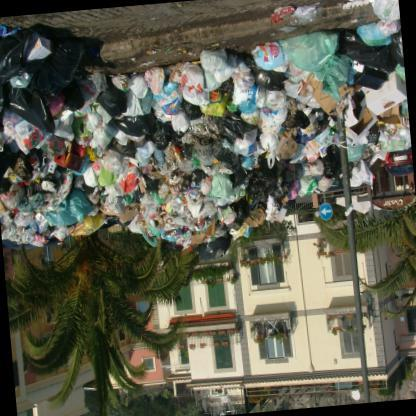Garbage: (0, 1, 415, 277), (0, 76, 203, 210), (0, 168, 55, 249), (354, 0, 402, 49), (283, 26, 333, 72), (358, 115, 411, 152), (150, 210, 193, 246), (204, 162, 240, 204), (314, 54, 353, 92), (80, 113, 116, 150), (258, 84, 290, 125), (366, 120, 408, 150), (206, 113, 245, 144), (194, 35, 224, 74), (338, 152, 372, 186), (67, 184, 93, 228), (318, 142, 344, 184), (228, 124, 260, 158), (18, 183, 44, 221), (272, 158, 296, 198), (158, 90, 186, 124), (160, 86, 183, 123), (292, 112, 326, 137), (136, 66, 166, 94), (210, 198, 236, 230), (100, 194, 132, 219), (126, 135, 152, 165), (98, 154, 127, 180), (168, 110, 192, 141), (4, 179, 22, 219), (106, 152, 128, 184), (305, 134, 328, 163), (249, 49, 278, 71), (184, 64, 206, 92), (258, 127, 278, 156), (110, 74, 134, 98), (298, 174, 320, 200), (232, 205, 250, 234), (184, 194, 202, 220), (6, 227, 33, 242), (165, 196, 184, 216), (318, 174, 338, 190)
